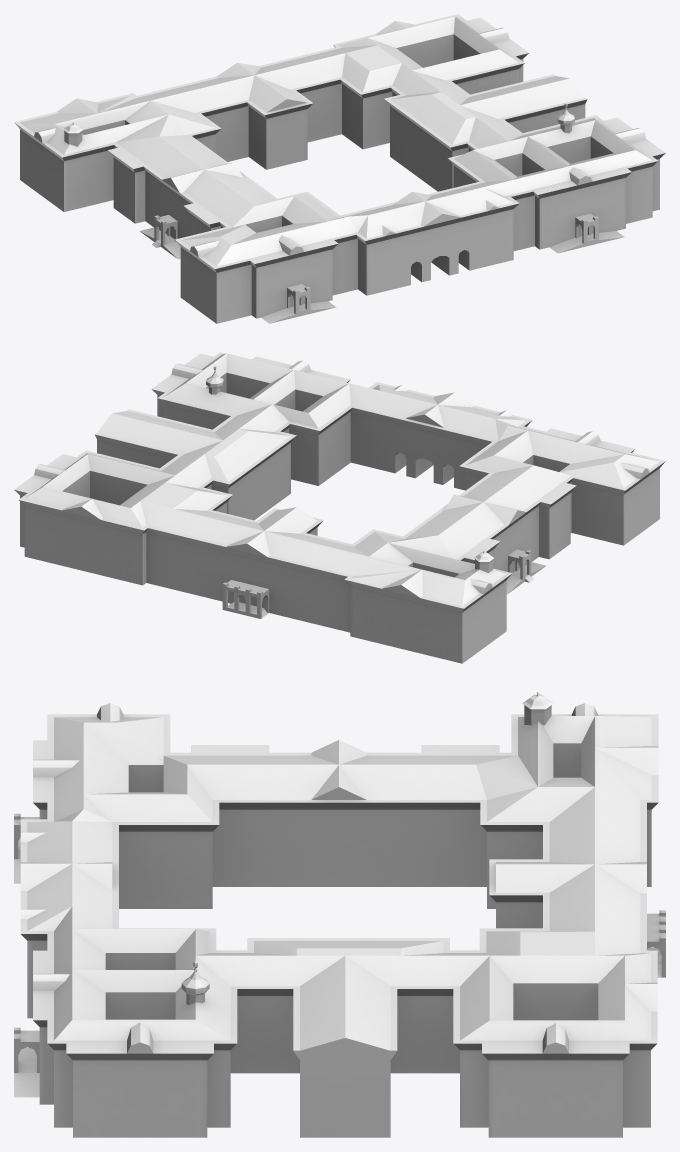
The model's file is hermitage.dae.
3 views of the same model, one above another, from view 1: azimuth 30°, elevation 25°; view 2: azimuth 150°, elevation 25°; view 3: azimuth 270°, elevation 25° (orthographic). The views are drawn at different scales.
Parts seen in each view (by area): view 1: Hermitage; view 2: Hermitage; view 3: Hermitage.
Boxes of the visible parts, left/top/right/bottom form: Hermitage: left=14, top=14, right=665, bottom=323; Hermitage: left=14, top=352, right=665, bottom=663; Hermitage: left=14, top=692, right=665, bottom=1137.
Bounding box in the file's own units: 0.3466 × 0.2814 × 0.0653.
1 material, 1 textured.
